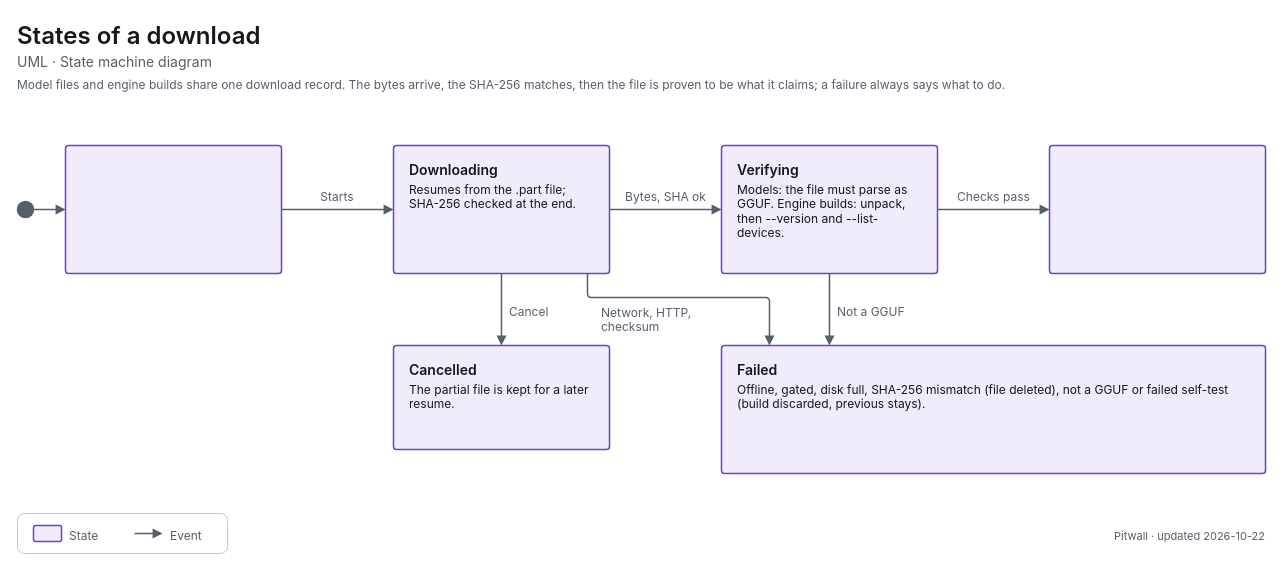
Some shapes in this 1284 by 571 pixel diagram are drawn without their labels. The shapes that lost their labels are listed below. From the top down, each one's box as (x1, y1, x2, y2) in pixels, then its label:
(64, 144, 282, 274): Queued Accepted; the URL is parsed against the allow-list.
(1048, 144, 1266, 274): Done The model is in the library, or the build is active.
